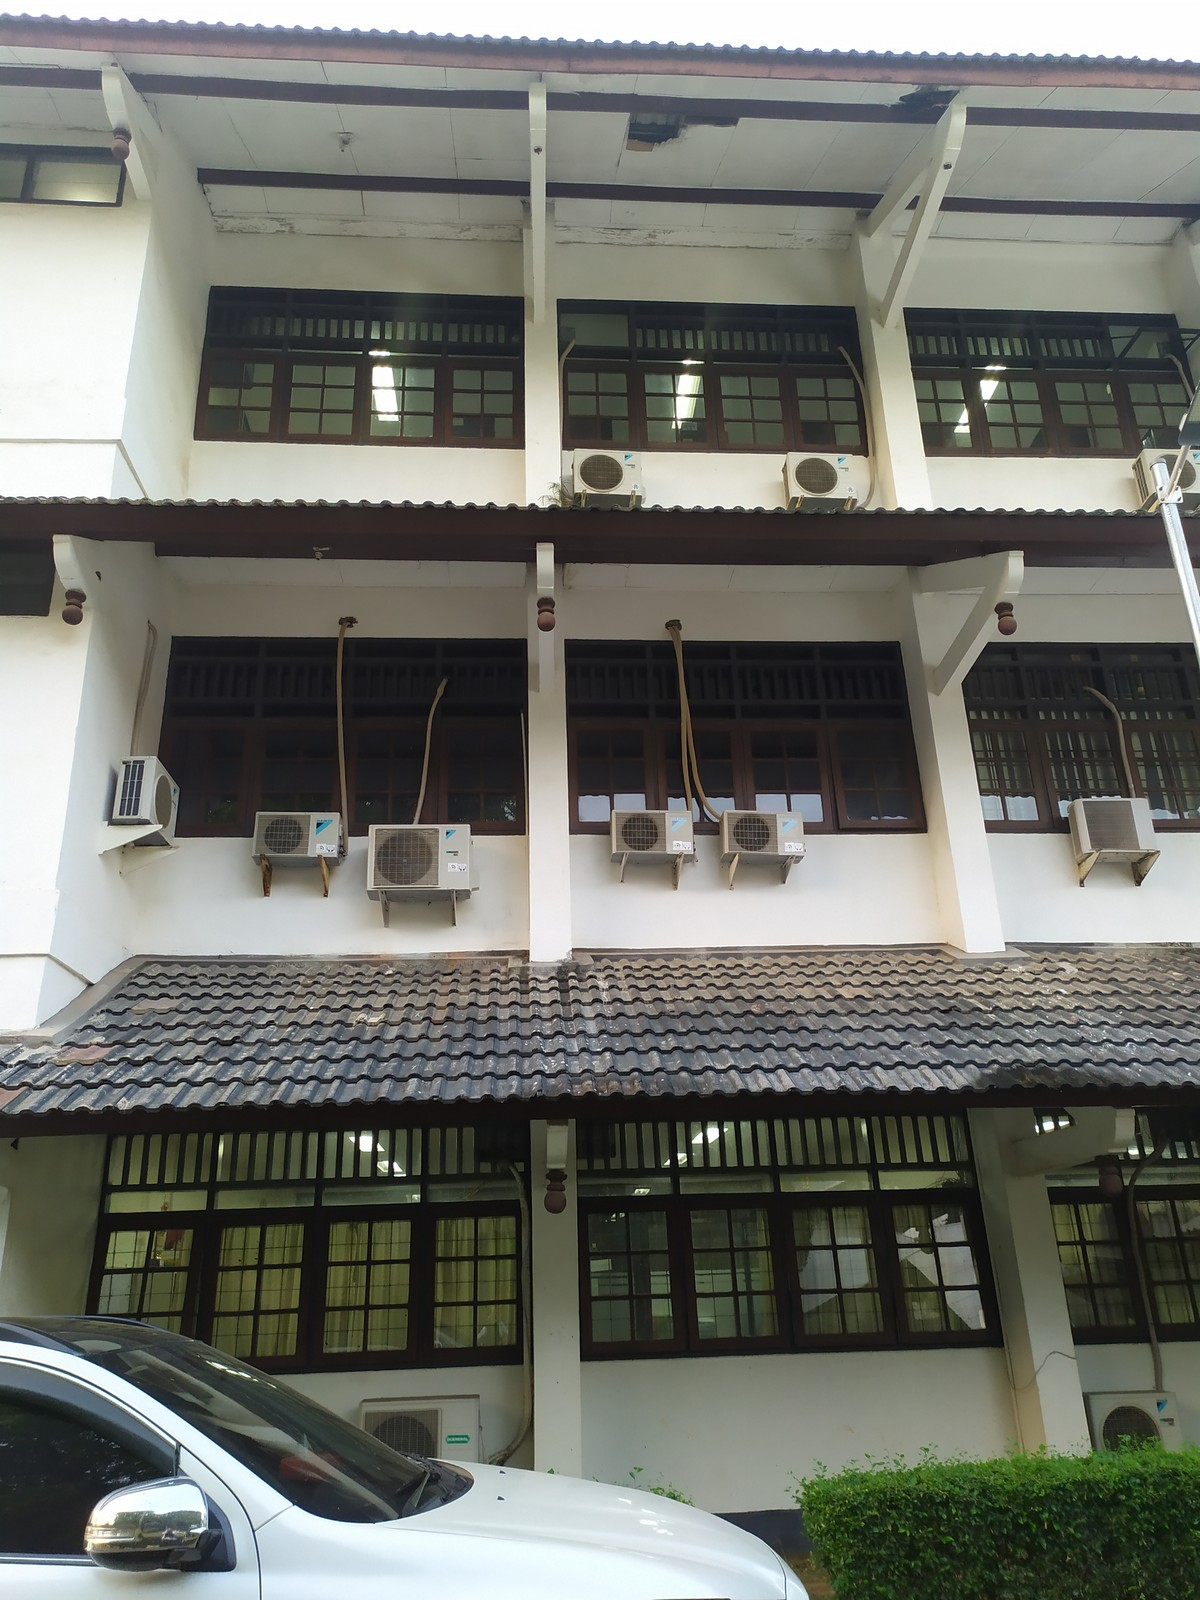concrete beam: (932, 590, 1000, 703)
concrete column: (899, 593, 1008, 952), (973, 1129, 1092, 1451), (845, 220, 942, 505)
